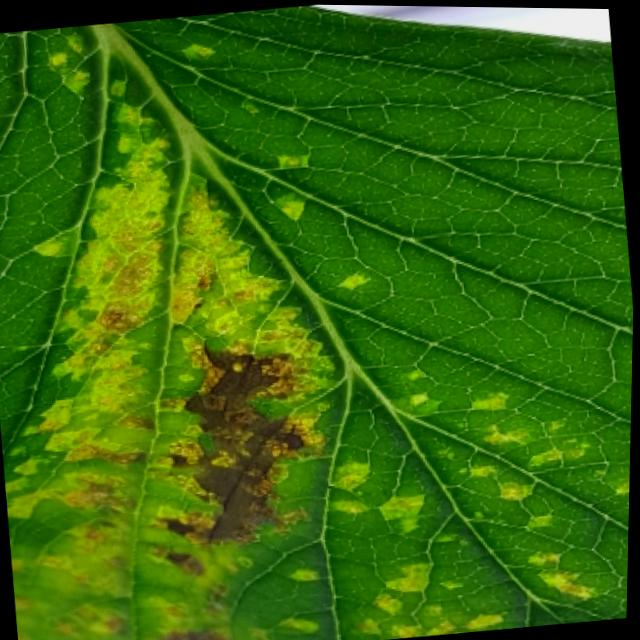Angular Leafspot: (0, 20, 634, 640)
